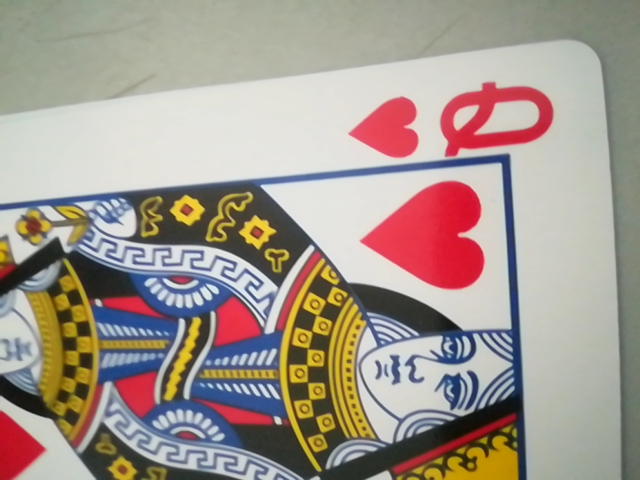hx q: (354, 74, 555, 164)
